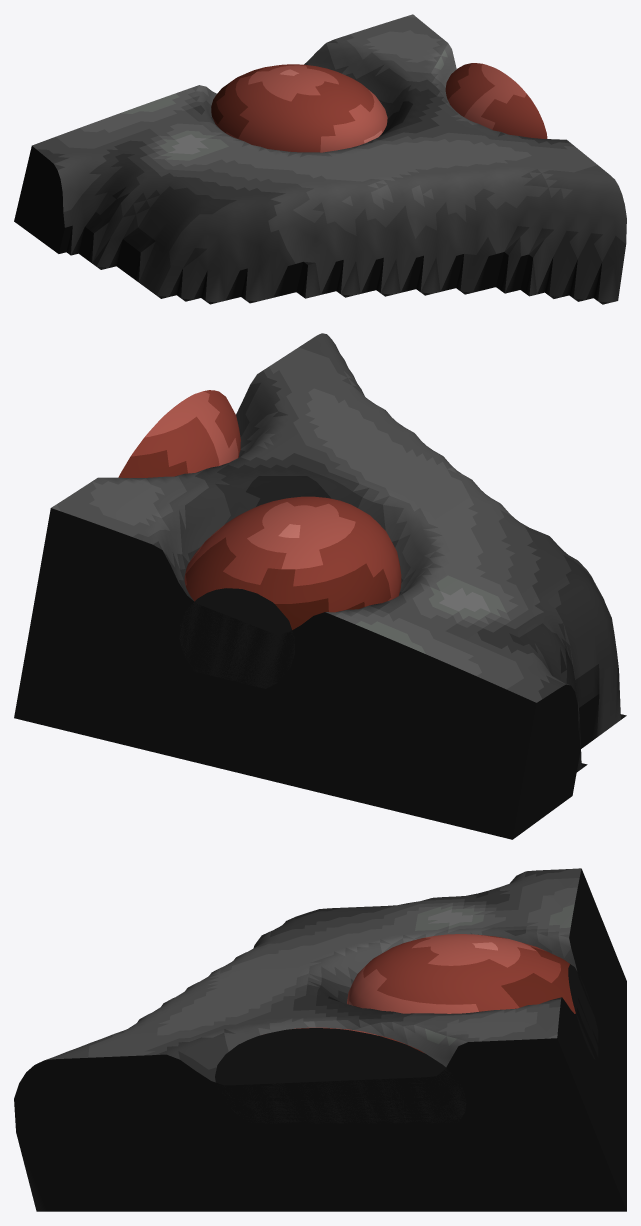
File: dome_head_85.glb
3 renders of one model, top to bottom at view 1: azimuth 30°, elevation 25°; view 2: azimuth 150°, elevation 25°; view 3: azimuth 270°, elevation 25°, orthographic. The views are drawn at different scales.
Parts seen in each view (by area): view 1: dome_head_85; view 2: dome_head_85; view 3: dome_head_85.
Boxes of the visible parts, x1,y1,x2,y2 form: dome_head_85: [14, 14, 626, 304]; dome_head_85: [14, 333, 626, 839]; dome_head_85: [14, 868, 626, 1211].
Size of the model in its own units: 24 by 8.92 by 26.99.
